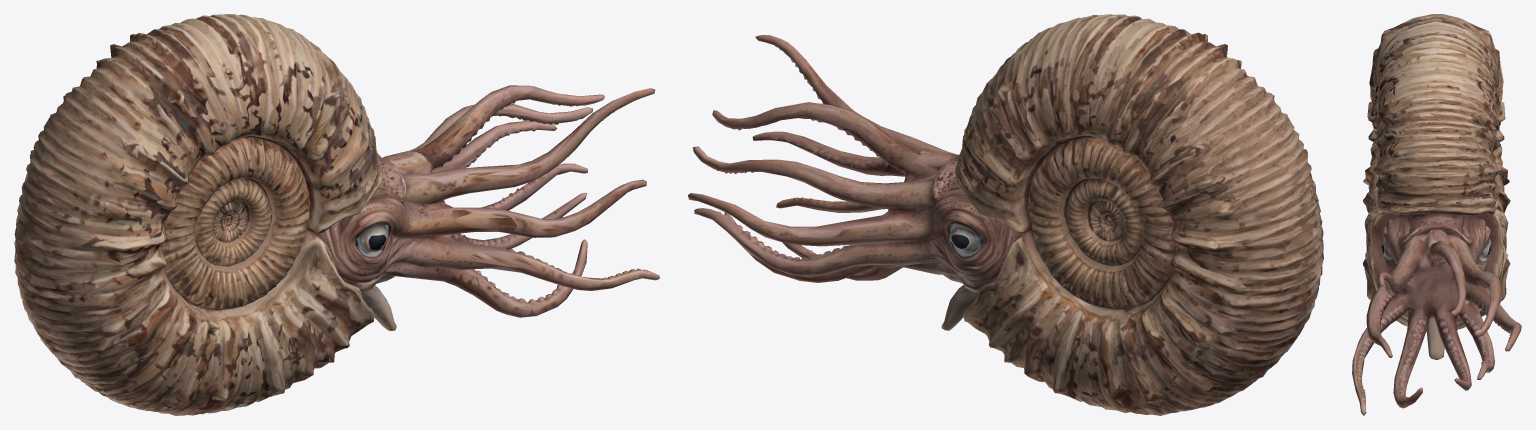
The model's file is ammonite.glb.
The picture shows the model from 3 angles, left to right: view 1: azimuth 30°, elevation 25°; view 2: azimuth 150°, elevation 25°; view 3: azimuth 270°, elevation 25°; orthographic projection. The views are drawn at different scales.
Visible parts, largest first — view 1: tripo_node_65a5f0d6-10a2-40cd-aea2-822dce5f449d; view 2: tripo_node_65a5f0d6-10a2-40cd-aea2-822dce5f449d; view 3: tripo_node_65a5f0d6-10a2-40cd-aea2-822dce5f449d.
Part boxes in pixels (x1,y1,x2,y2): tripo_node_65a5f0d6-10a2-40cd-aea2-822dce5f449d: (14, 14, 659, 415); tripo_node_65a5f0d6-10a2-40cd-aea2-822dce5f449d: (688, 14, 1323, 415); tripo_node_65a5f0d6-10a2-40cd-aea2-822dce5f449d: (1352, 14, 1521, 415).
Bounding box in the file's own units: 1 × 0.6126 × 0.3306.
1 material, 1 textured.
